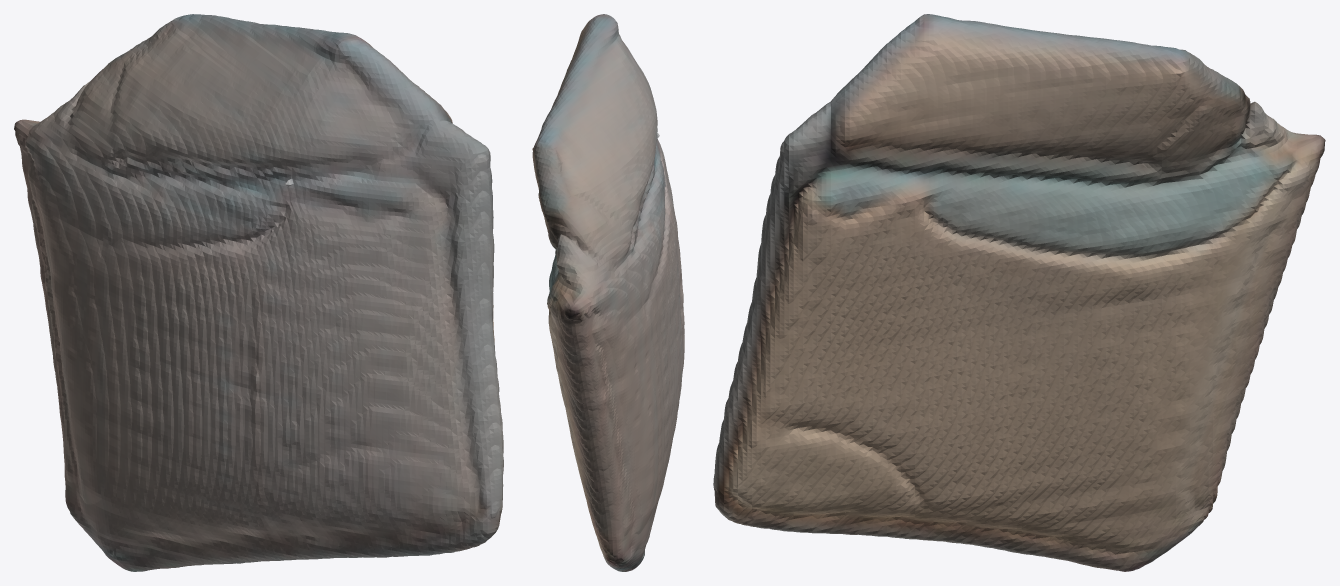
3 views of the same model, side by side, from view 1: azimuth 30°, elevation 25°; view 2: azimuth 150°, elevation 25°; view 3: azimuth 270°, elevation 25° (orthographic). The views are drawn at different scales.
Parts seen in each view (by area): view 1: world; view 2: world; view 3: world.
Part boxes in pixels (box(x1,y1,x2,y2)): world: box(14, 14, 503, 571); world: box(532, 14, 684, 571); world: box(713, 14, 1325, 571).
Bounding box in the file's own units: 0.4445 × 0.9925 × 0.8964.
